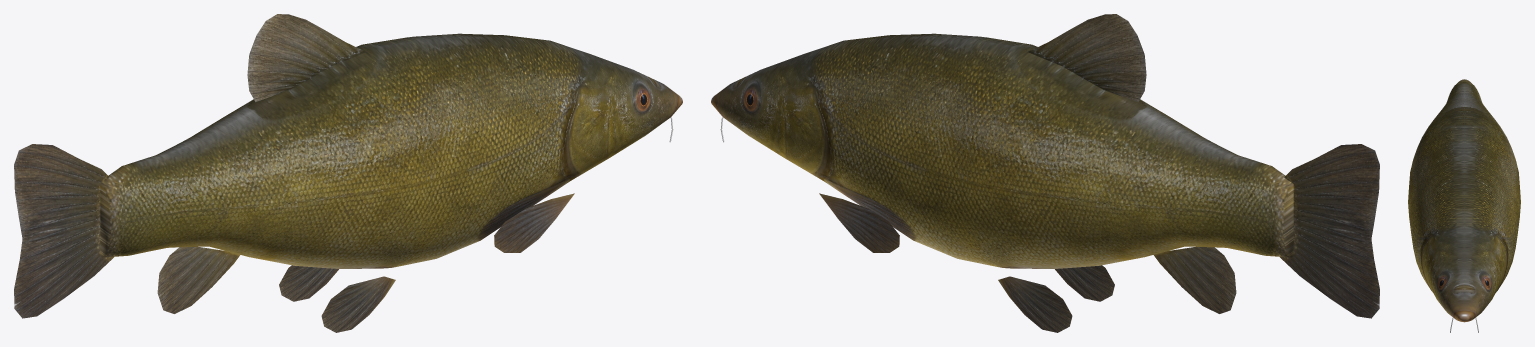
Rendered from tench.glb.
3 views of the same model, side by side, from view 1: azimuth 30°, elevation 25°; view 2: azimuth 150°, elevation 25°; view 3: azimuth 270°, elevation 25° (orthographic). The views are drawn at different scales.
Parts seen in each view (by area): view 1: tench_realistic; view 2: tench_realistic; view 3: tench_realistic.
Boxes of the visible parts, x1,y1,x2,y2 form: tench_realistic: [14, 14, 682, 332]; tench_realistic: [711, 14, 1379, 332]; tench_realistic: [1408, 79, 1520, 332].
Bounding box in the file's own units: 0.9947 × 0.4466 × 0.208.
3 materials, 1 textured.
